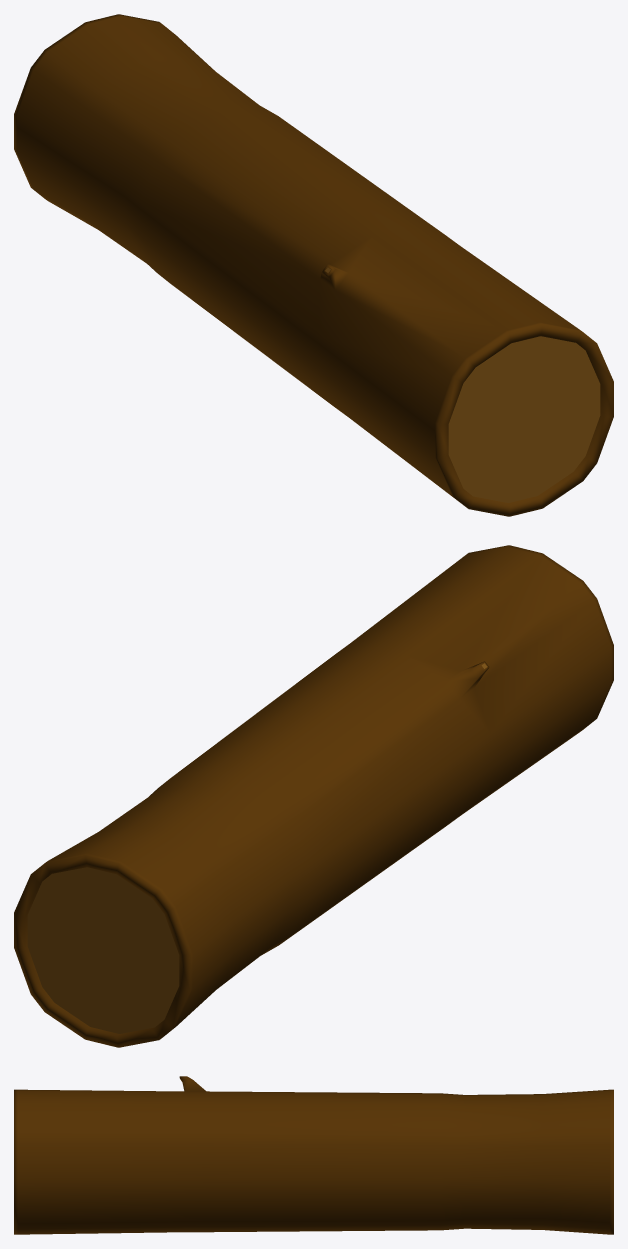
Rendered from Log.fbx.
3 renders of one model, top to bottom at view 1: azimuth 30°, elevation 25°; view 2: azimuth 150°, elevation 25°; view 3: azimuth 270°, elevation 25°, orthographic. The views are drawn at different scales.
Parts seen in each view (by area): view 1: Cube; view 2: Cube; view 3: Cube.
Part boxes in pixels (x1,y1,x2,y2): Cube: [14, 14, 613, 516]; Cube: [14, 545, 613, 1047]; Cube: [14, 1076, 613, 1234].
Bounding box in the file's own units: 340 × 340 × 1419.
